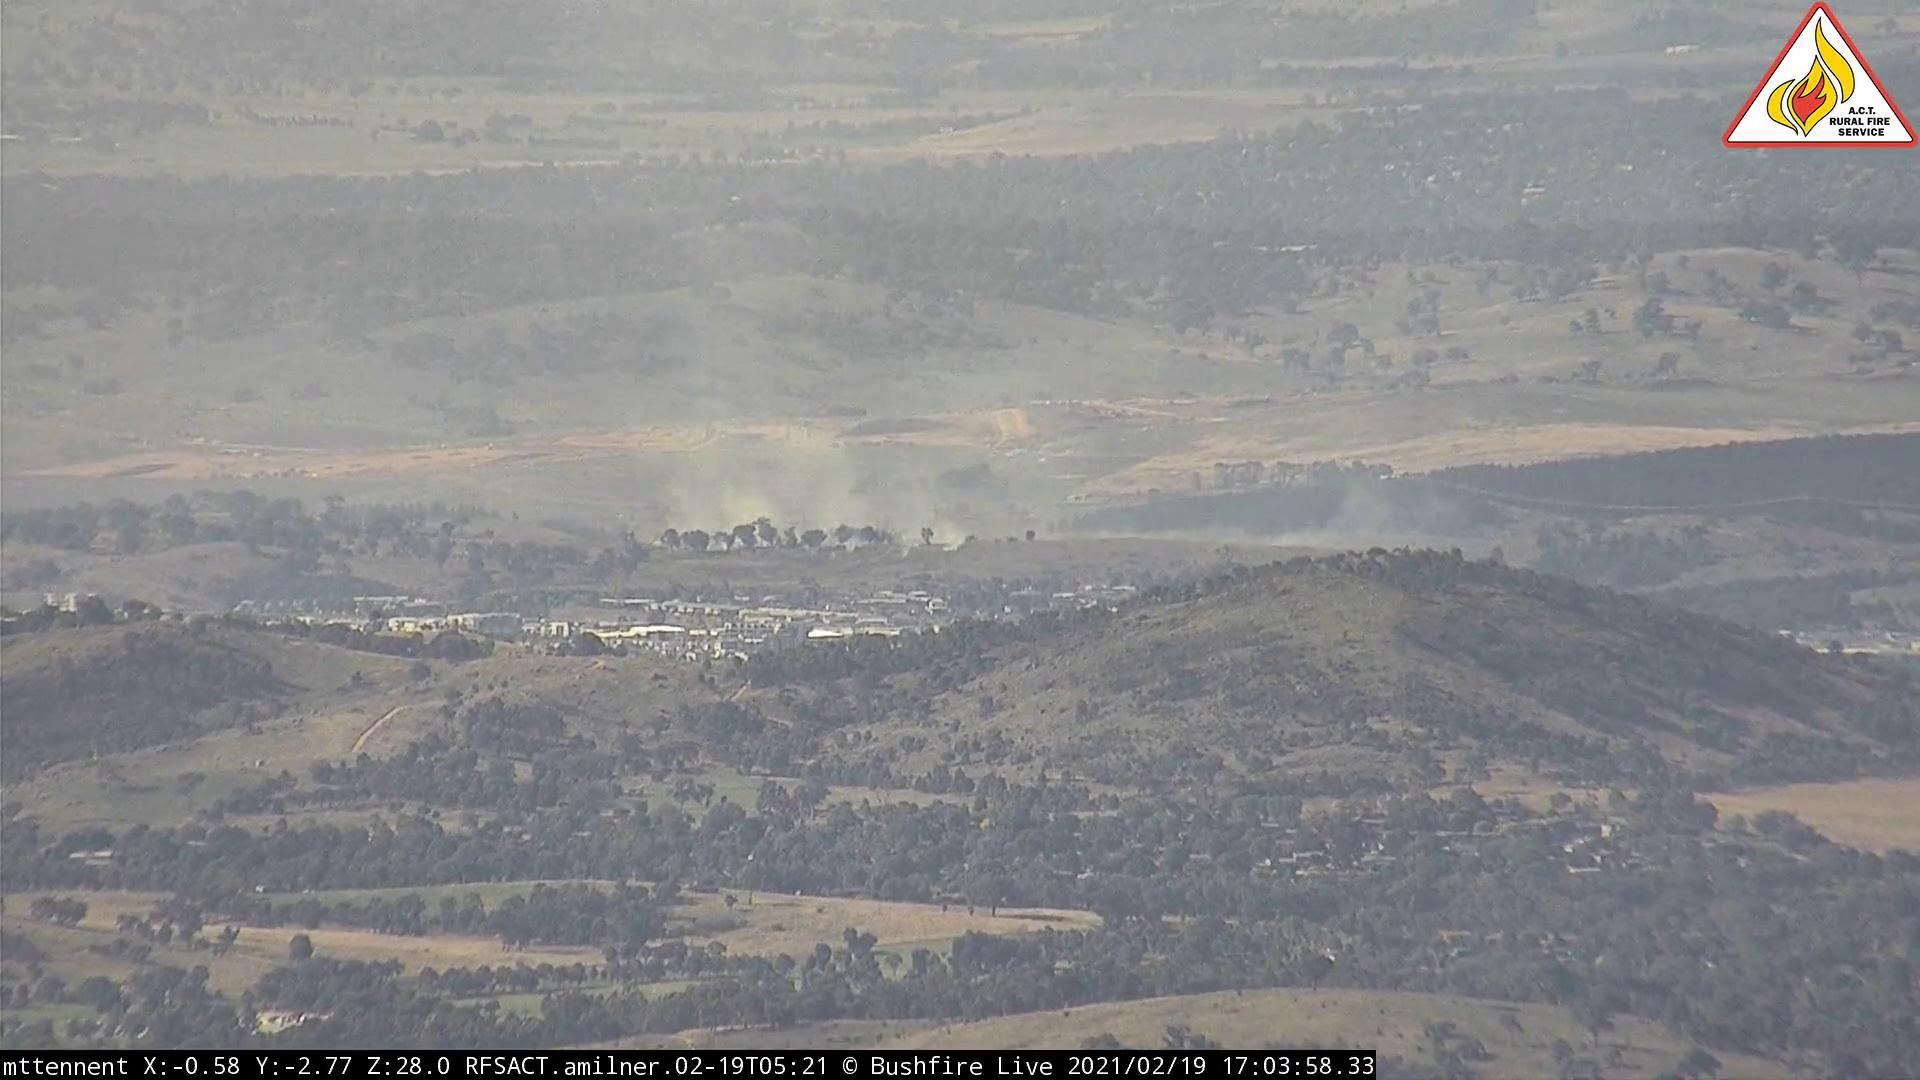Smoke: (642, 327, 1081, 550), (1278, 447, 1422, 542)
